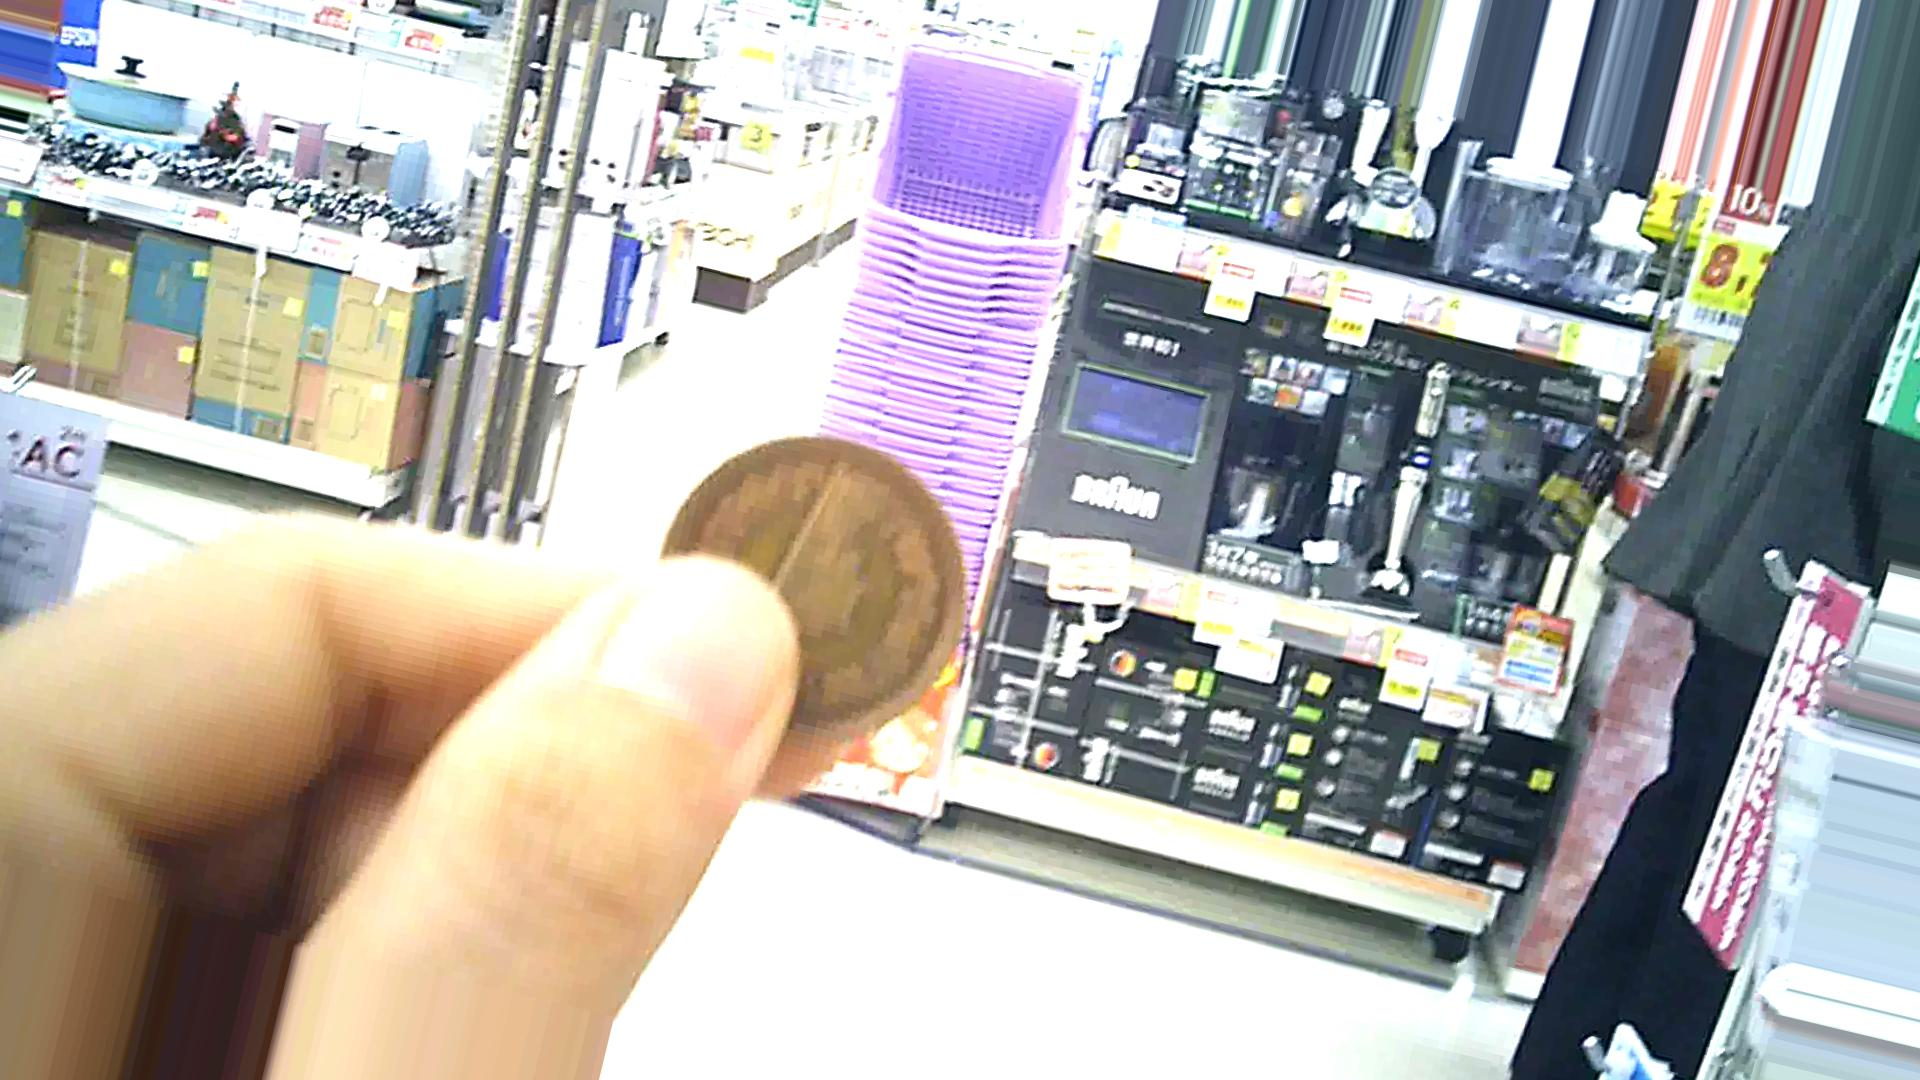10 Yen: (618, 433, 964, 741)
